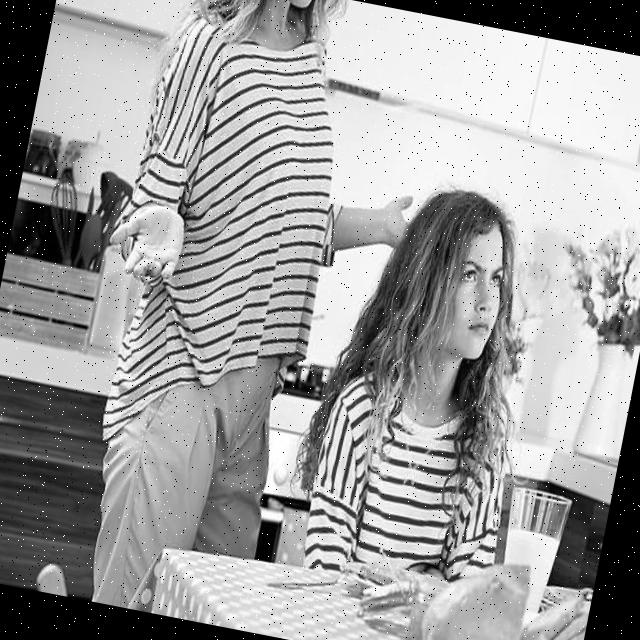Angry: (433, 224, 513, 362)
